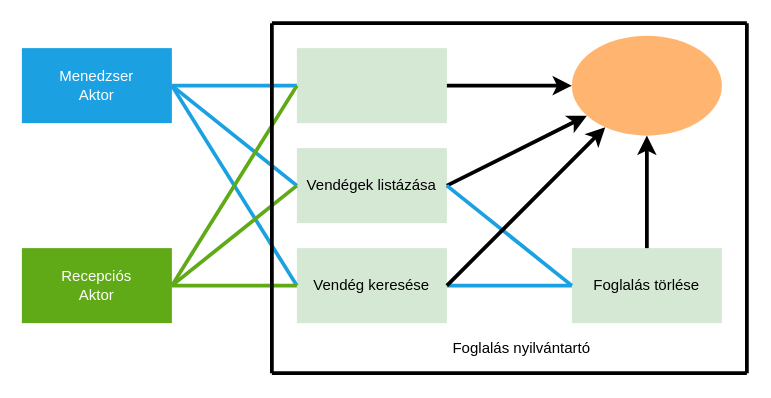
This 771x398 diagram has some shape labels left out. Each missing label, with the centre of its shape:
"Adatbevitel" belongs at [371,85].
"foglalasok.csv" belongs at [646,85].
